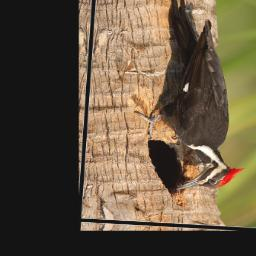Woodpecker: (128, 0, 256, 194)
